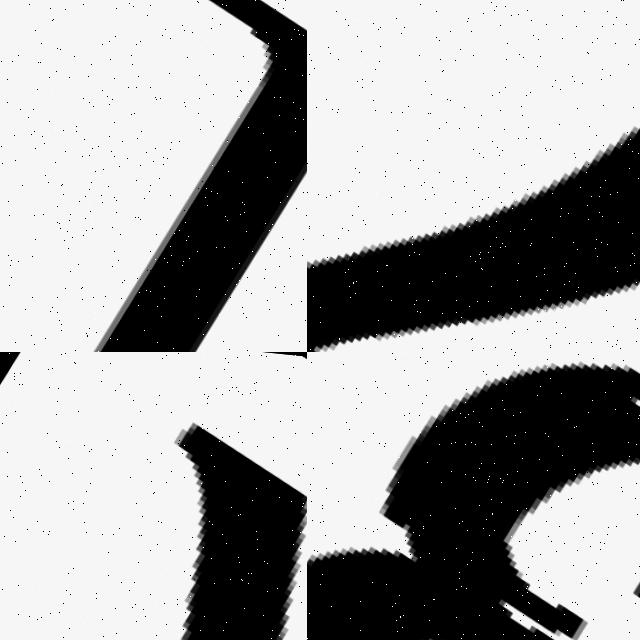3: (307, 352, 640, 640)
7: (307, 0, 640, 352)
K: (0, 352, 307, 640)
L: (0, 0, 307, 352)
